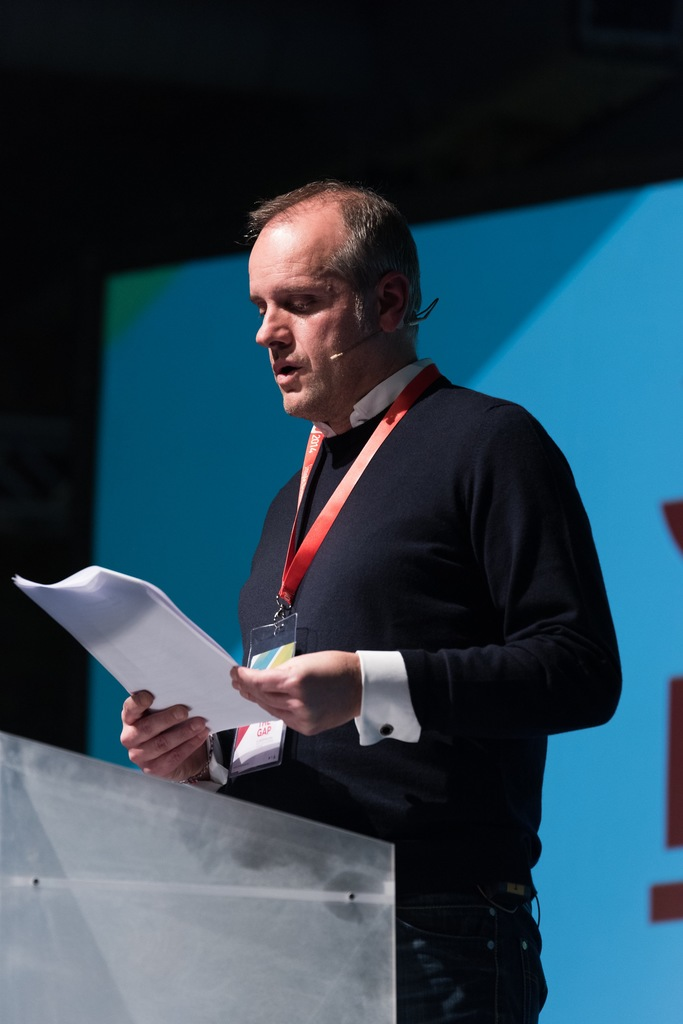Human_hand: (115, 684, 218, 783), (239, 651, 337, 729)
